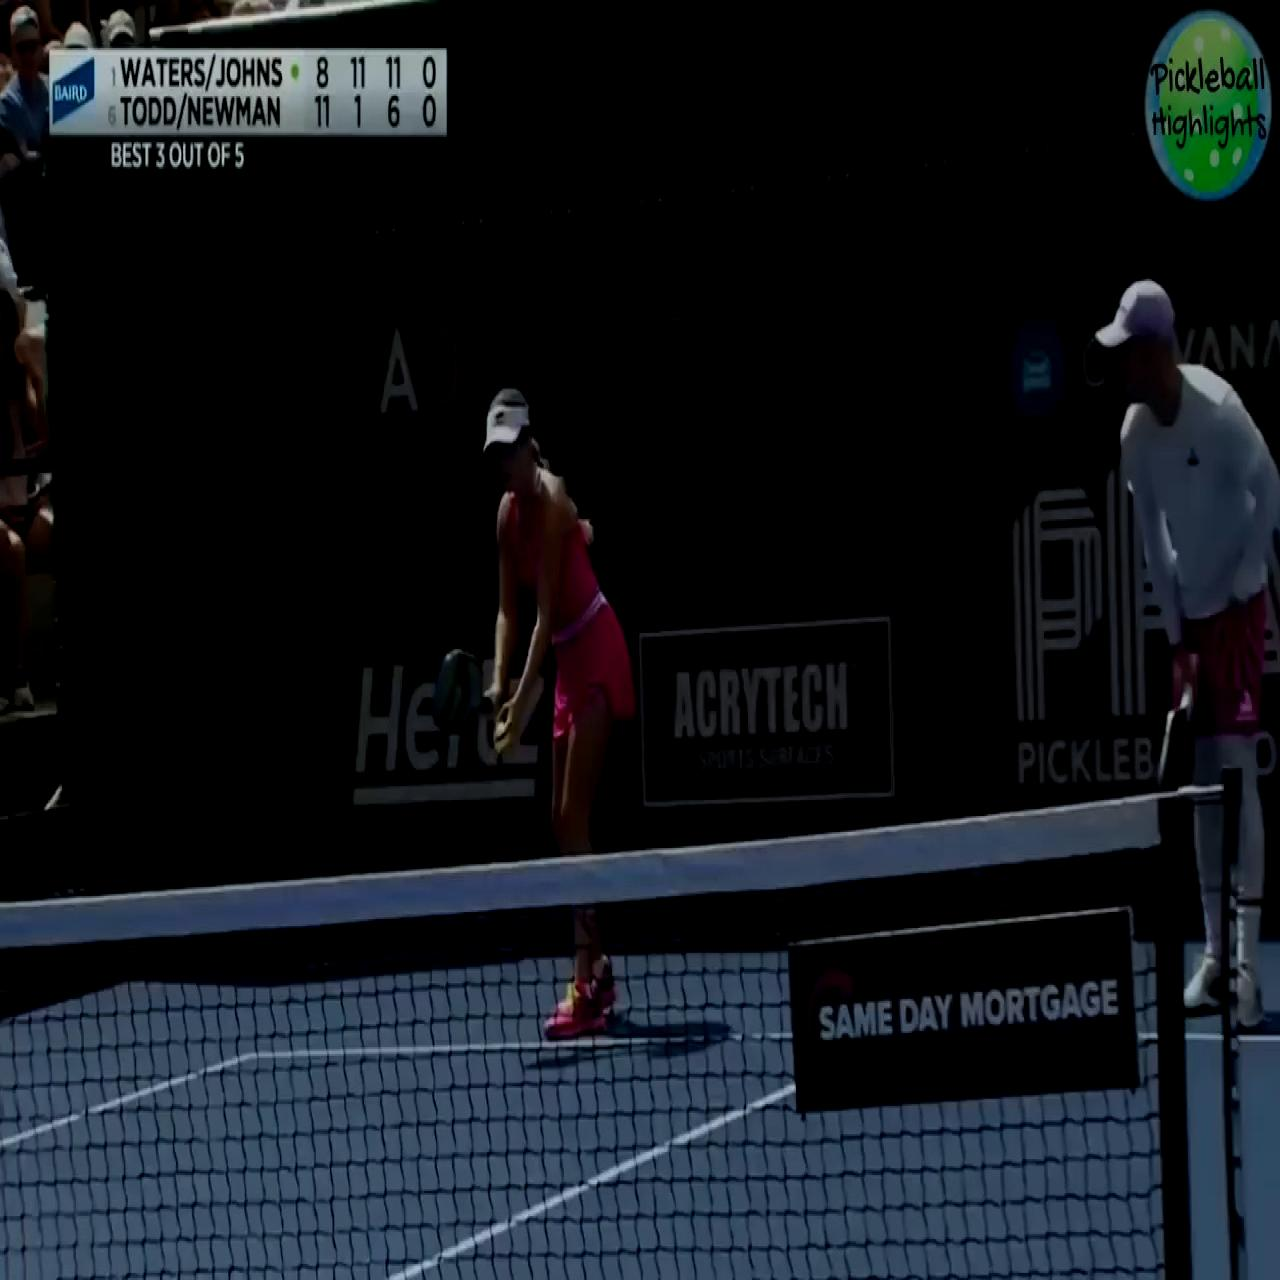Pickleball: (491, 716, 509, 753)
